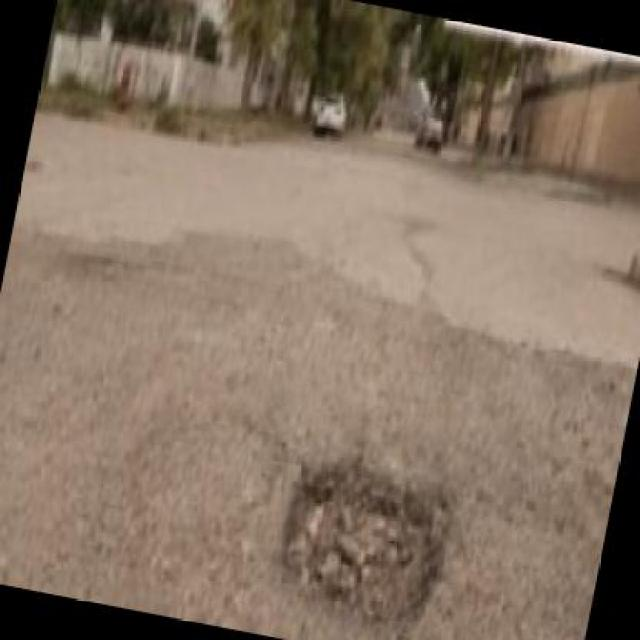pothole1: (266, 442, 463, 638)
